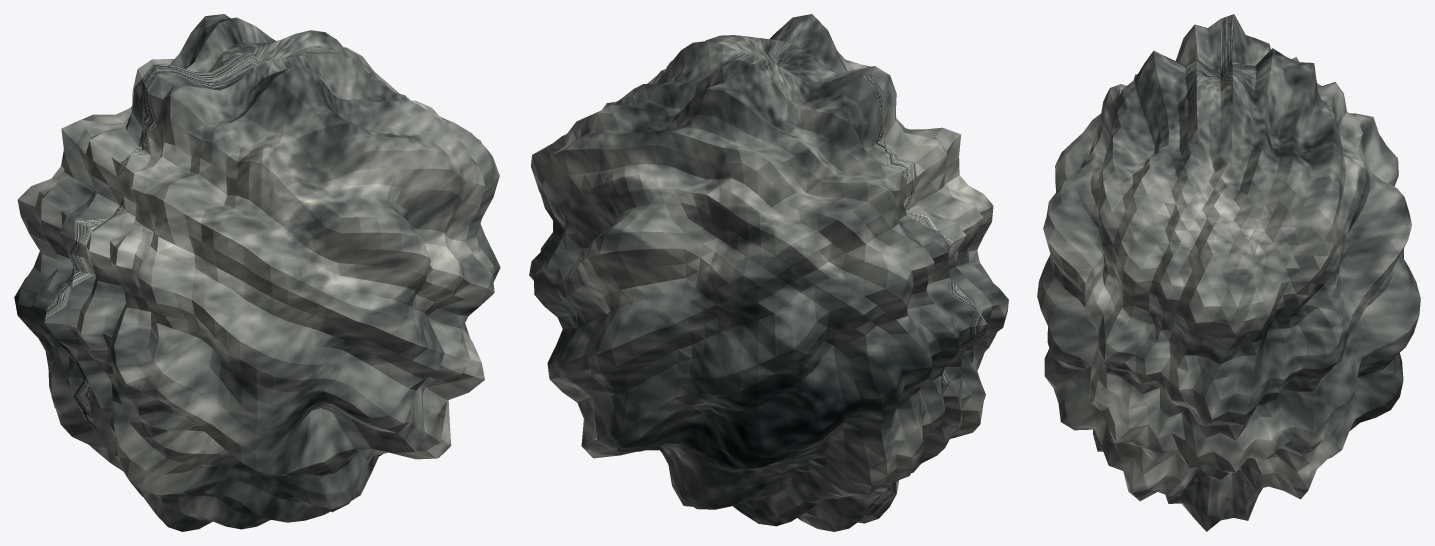
Rendered from medium_04.glb.
The picture shows the model from 3 angles, left to right: view 1: azimuth 30°, elevation 25°; view 2: azimuth 150°, elevation 25°; view 3: azimuth 270°, elevation 25°; orthographic projection. The views are drawn at different scales.
Visible parts, largest first — view 1: rock; view 2: rock; view 3: rock.
Boxes of the visible parts, <box> form: rock: <box>14,14,500,531</box>; rock: <box>529,14,1008,531</box>; rock: <box>1037,14,1420,531</box>.
Bounding box in the file's own units: 2.89 × 2.96 × 2.3.
1 material, 1 textured.
